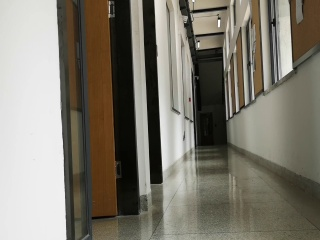room: (51, 3, 140, 233)
